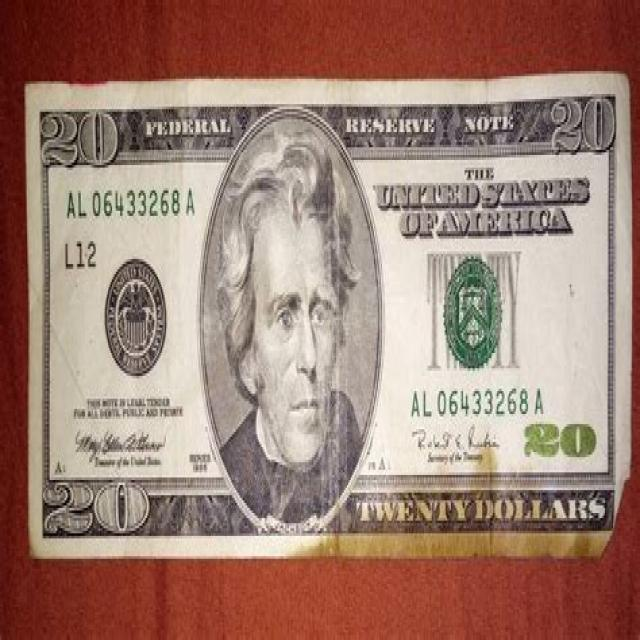Twenty: (26, 71, 631, 556)
